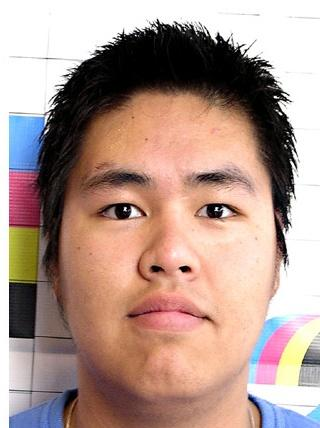No Mask: (35, 5, 300, 407)
